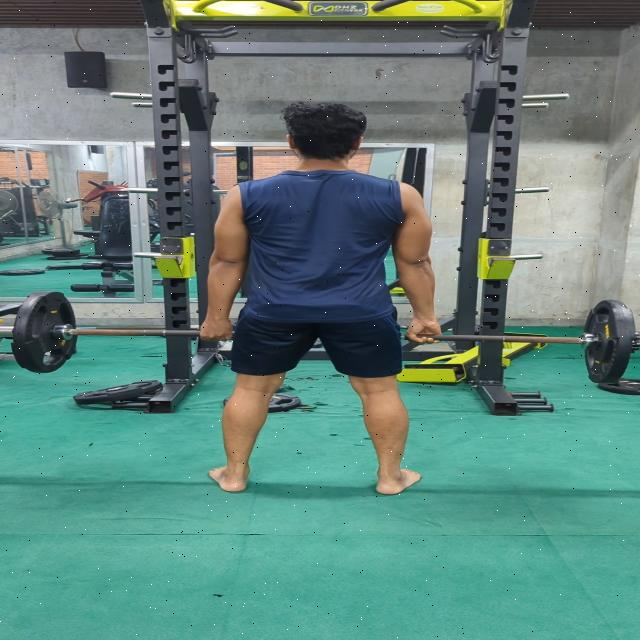Normal_Deadlifts: (195, 102, 444, 496)
